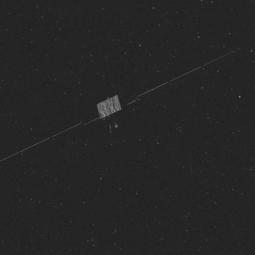smart_1: (46, 66, 199, 147)
